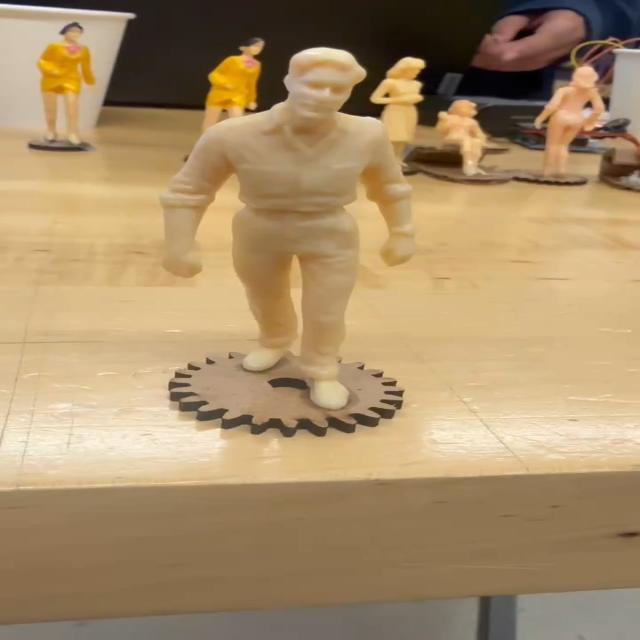Unauthorized: (146, 38, 454, 430)
